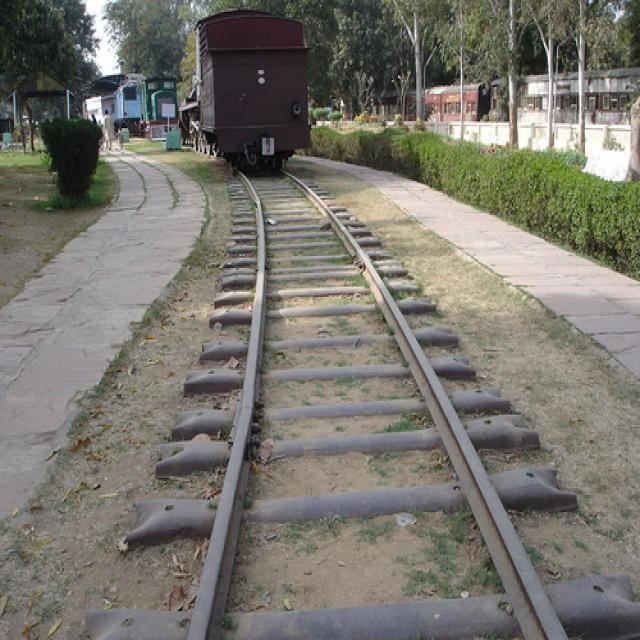train: (174, 6, 321, 180), (365, 61, 640, 122)
